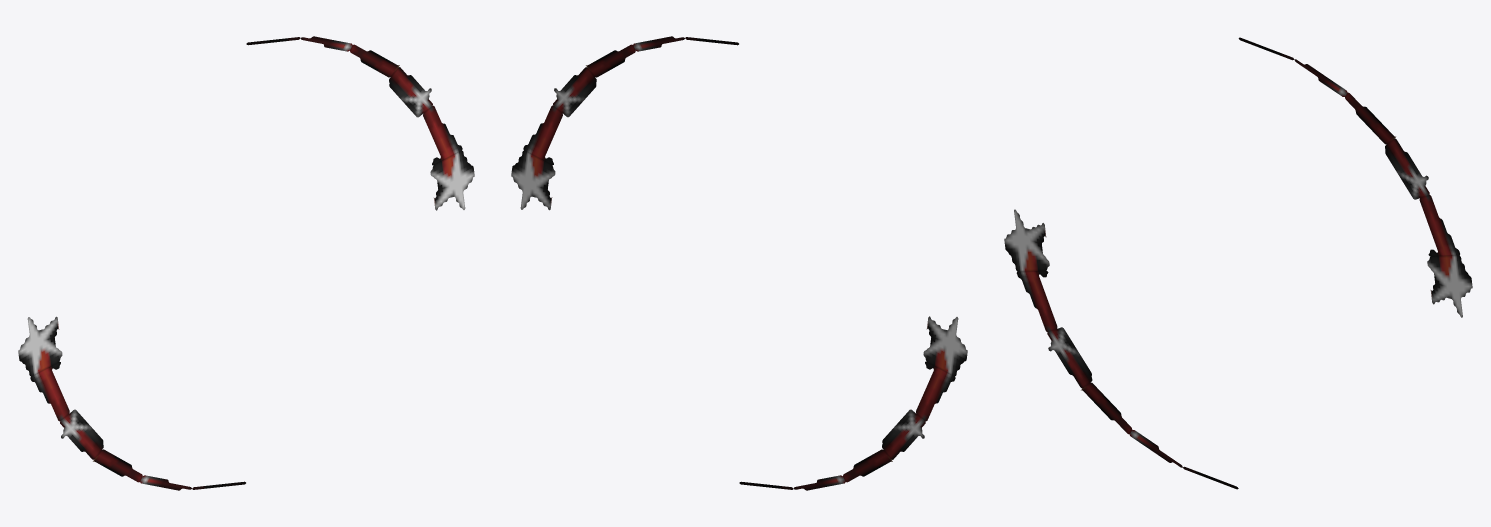
The picture shows the model from 3 angles, left to right: view 1: azimuth 30°, elevation 25°; view 2: azimuth 150°, elevation 25°; view 3: azimuth 330°, elevation 25°; orthographic projection. The views are drawn at different scales.
Parts seen in each view (by area): view 1: T1L7M001_13; view 2: T1L7M001_13; view 3: T1L7M001_13.
Boxes of the visible parts, x1,y1,x2,y2 form: T1L7M001_13: (18,36,474,490); T1L7M001_13: (511,36,967,490); T1L7M001_13: (1004,37,1472,489).
Size of the model in its own units: 2.06 by 2.06 by 0.000977.
